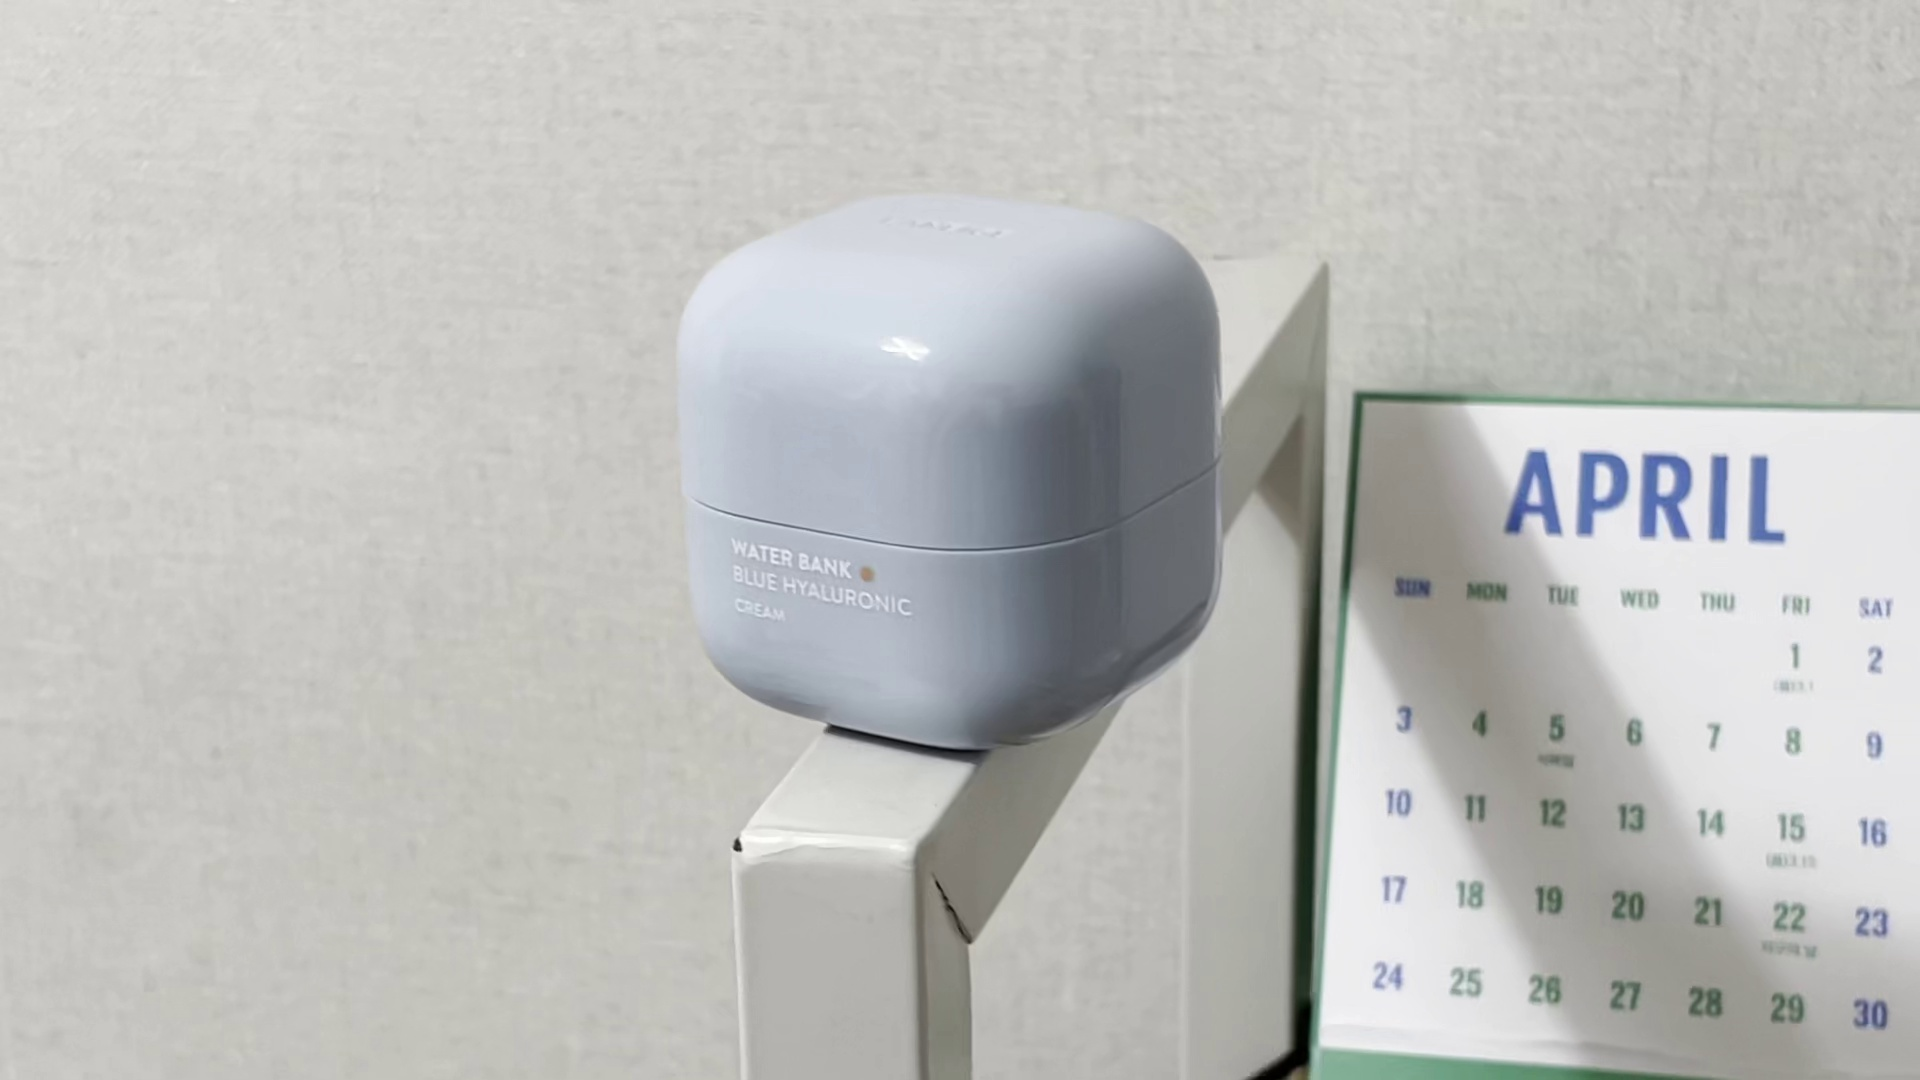cream: (671, 182, 1228, 750)
